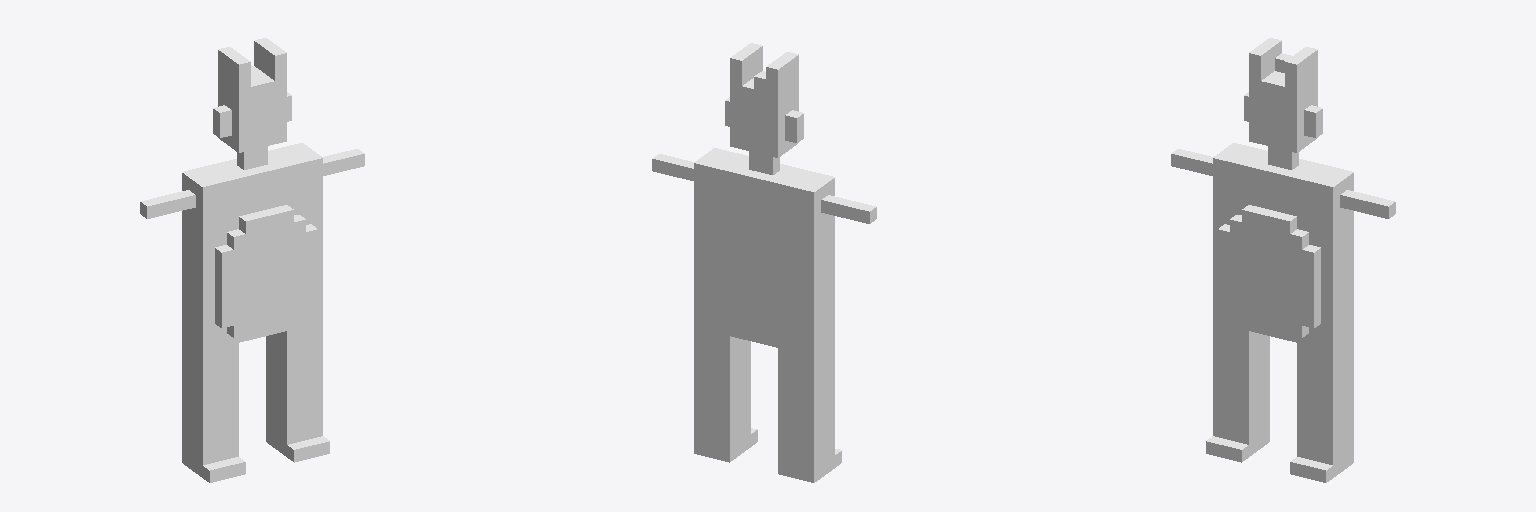
Rendered from Main.obj.
The picture shows the model from 3 angles: view 1: azimuth 30°, elevation 25°; view 2: azimuth 150°, elevation 25°; view 3: azimuth 330°, elevation 25°; orthographic projection.
Parts seen in each view (by area): view 1: object 1; view 2: object 1; view 3: object 1.
Part boxes in pixels (x1,y1,x2,y2): object 1: (140, 38, 364, 482); object 1: (652, 43, 876, 482); object 1: (1171, 38, 1395, 482).
Bounding box in the file's own units: 1.8 × 3.2 × 0.4.